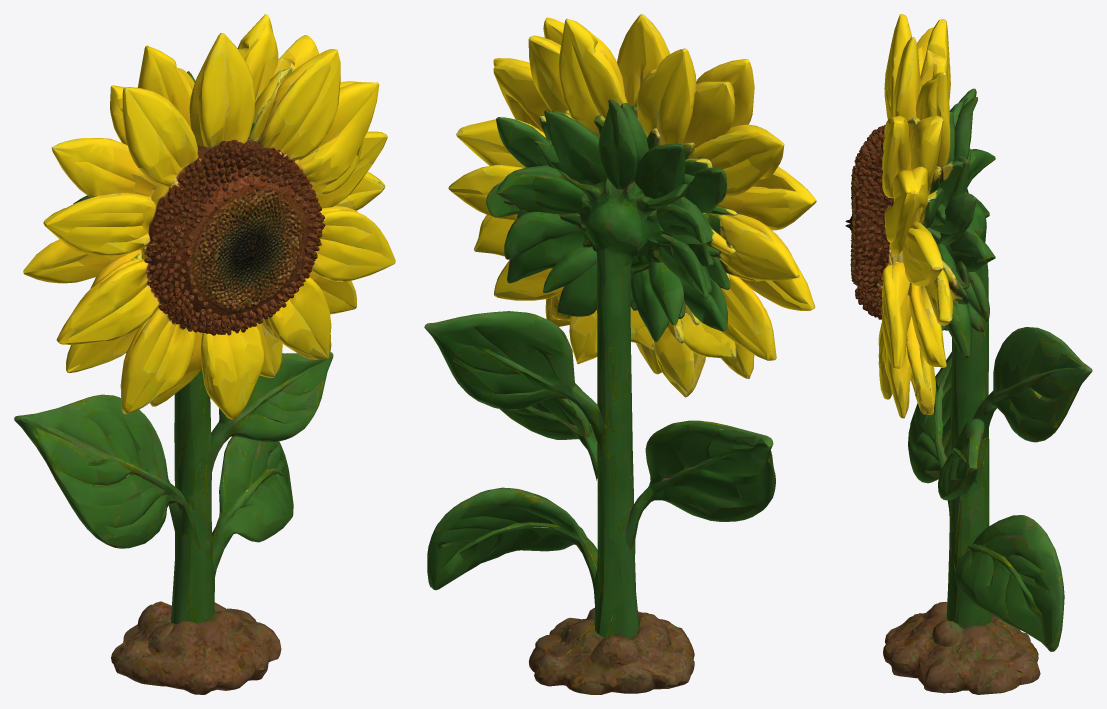
File: upm_mu5yhjpl5po.glb
3 views of the same model, side by side, from view 1: azimuth 30°, elevation 25°; view 2: azimuth 150°, elevation 25°; view 3: azimuth 270°, elevation 25° (orthographic). The views are drawn at different scales.
Size of the model in its own units: 1.1 by 1.9 by 0.6834.
Materials: 1 (1 with a texture image).
